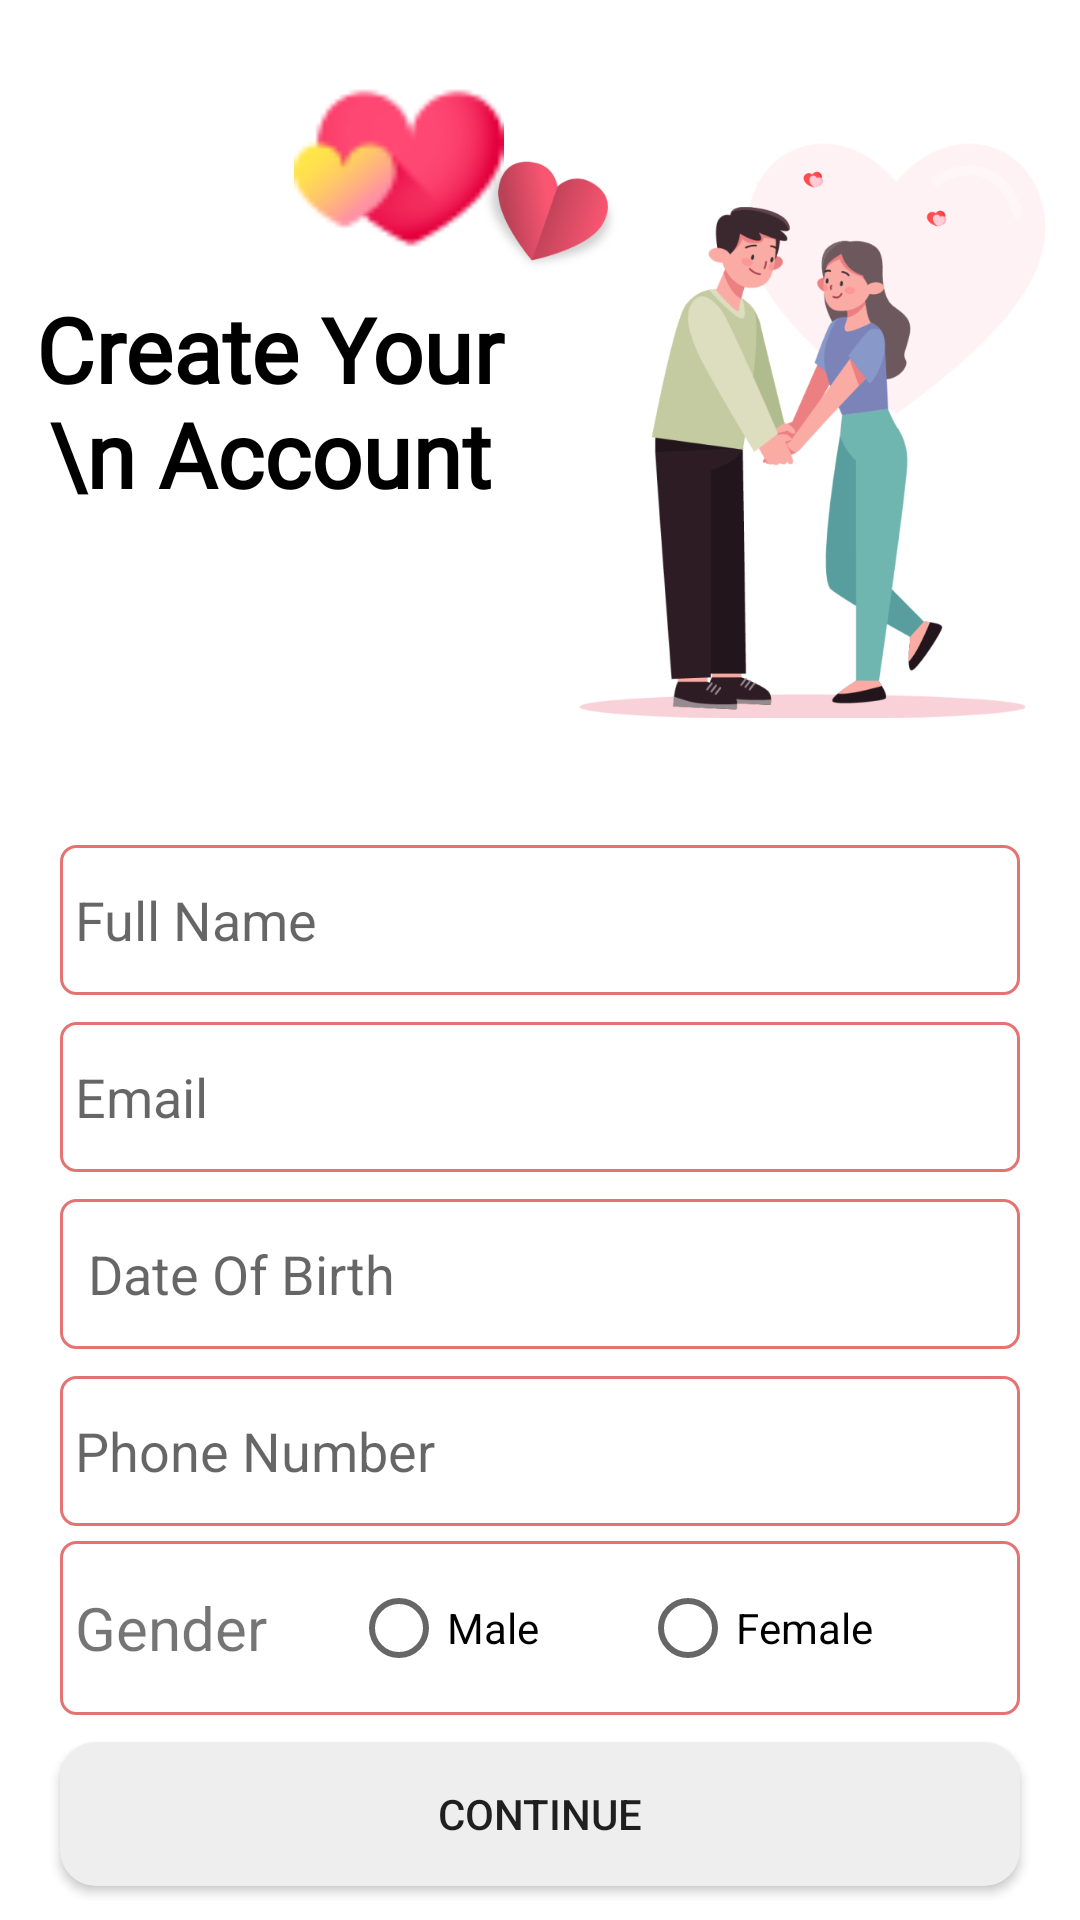

Named icons in this screenshot (1080px x 1920px) and their centers, (x,y):
heart regi: (399,168)
